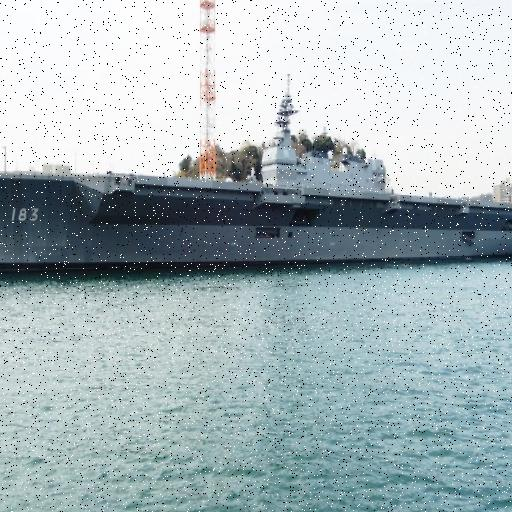Portanaves: (1, 73, 512, 281)
